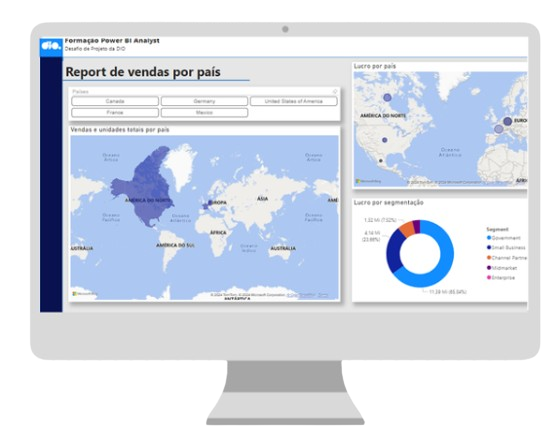

The page's visual inventory and layout, read from the dashboard file:
{"tool":"powerbi","page":{"name":"Vendas por região","canvas":[1280,720],"ordinal":2},"visuals":[{"type":"shape","box":[70,111.3,473,37.1],"z":0,"group":"g1"},{"type":"shape","box":[68.4,71.6,1211.7,648.8],"z":0},{"type":"textbox","box":[71.4,81.1,470.2,52.2],"z":1000,"group":"g1"},{"type":"shape","box":[12.1,19.7,57.6,62.1],"z":1000},{"type":"shape","box":[11.1,9.5,57.2,710.8],"z":2000},{"type":"shape","box":[10,10,58.7,61.6],"z":3000},{"type":"image","box":[11.5,21.5,58.7,40.1],"z":4000},{"type":"shape","title":"Fundo do Título","box":[68.7,8.6,1198.6,63],"z":5000},{"type":"textbox","title":"Título do report","box":[68.7,10,378,64.4],"z":6000},{"type":"group","id":"g1","title":"Sales report","box":[70,81.1,472.3,66.8],"z":7000},{"type":"filledMap","title":"Vendas e unidades totais por país","fields":{"Category":["financials.Country"]},"box":[84.3,244.9,686.9,445.2],"z":8000},{"type":"ChicletSlicer1448559807354","fields":{"Category":["financials.Country"]},"box":[84.3,146.3,686.9,85.9],"z":9000},{"type":"map","title":"Lucro por país","fields":{"Category":["financials.Country"],"Size":["Sum(financials.Profit)"]},"box":[799.8,84.3,467.5,321.2],"z":10000},{"type":"donutChart","title":"Lucro por segmentação","fields":{"Category":["financials.Segment"],"Y":["Sum(financials.Profit)"]},"box":[799.8,427.7,467.5,262.4],"z":11000}]}

Visuals, with their boxes on the page's 1280x720 design canvas (x1, y1, x2, y2). These are canvas units, not pixel positions in the 560x445 screenshot, which may show the page scaled, cropped or inside an application window:
shape: bbox=(70, 111, 543, 148)
shape: bbox=(68, 72, 1280, 720)
textbox: bbox=(71, 81, 542, 133)
shape: bbox=(12, 20, 70, 82)
shape: bbox=(11, 10, 68, 720)
shape: bbox=(10, 10, 69, 72)
image: bbox=(12, 22, 70, 62)
"Fundo do Título" shape: bbox=(69, 9, 1267, 72)
"Título do report" textbox: bbox=(69, 10, 447, 74)
"Sales report" group: bbox=(70, 81, 542, 148)
"Vendas e unidades totais por país" filledMap: bbox=(84, 245, 771, 690)
ChicletSlicer1448559807354 - financials.Country: bbox=(84, 146, 771, 232)
"Lucro por país" map: bbox=(800, 84, 1267, 406)
"Lucro por segmentação" donutChart: bbox=(800, 428, 1267, 690)
